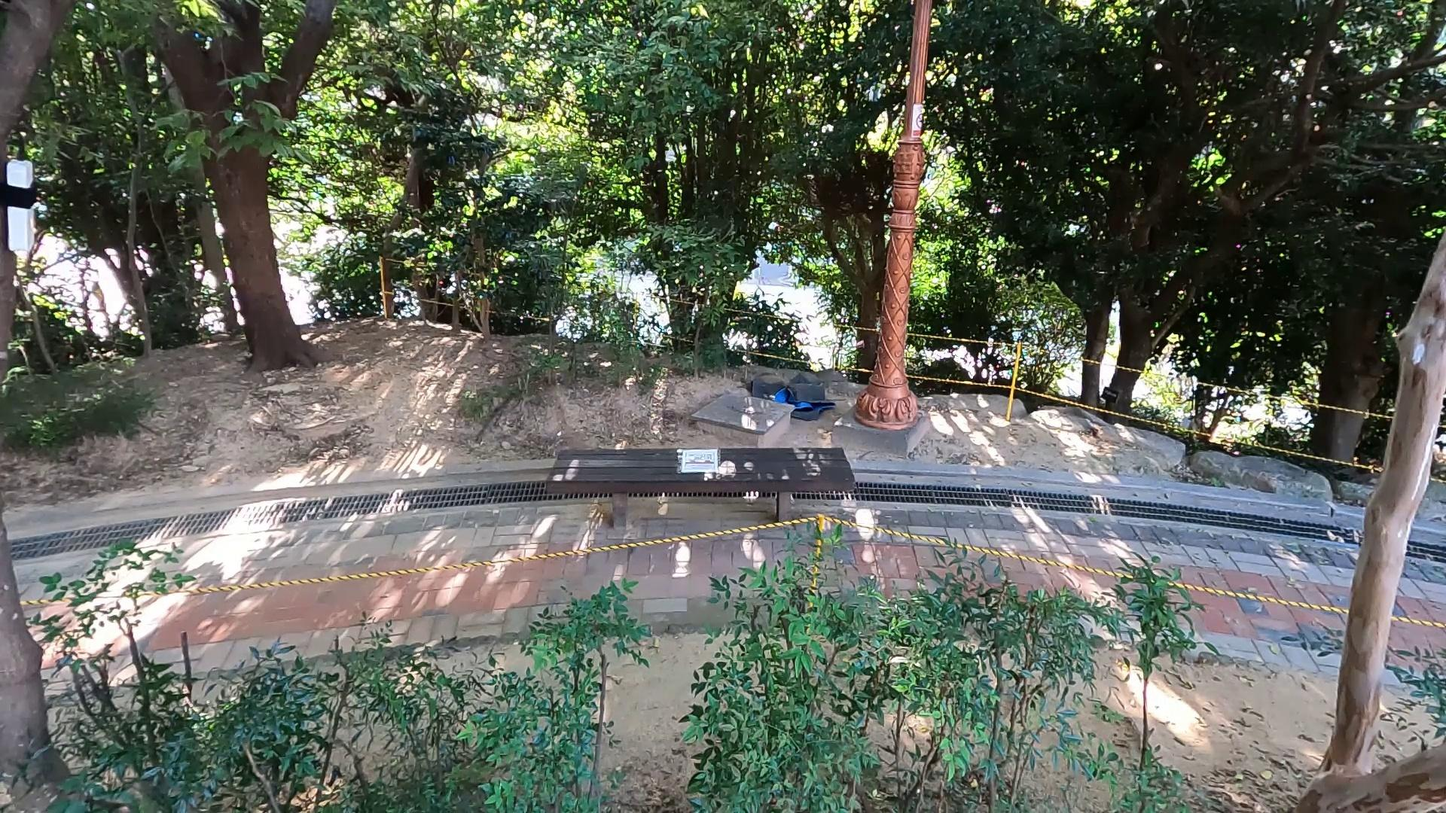trash: (748, 369, 839, 421)
